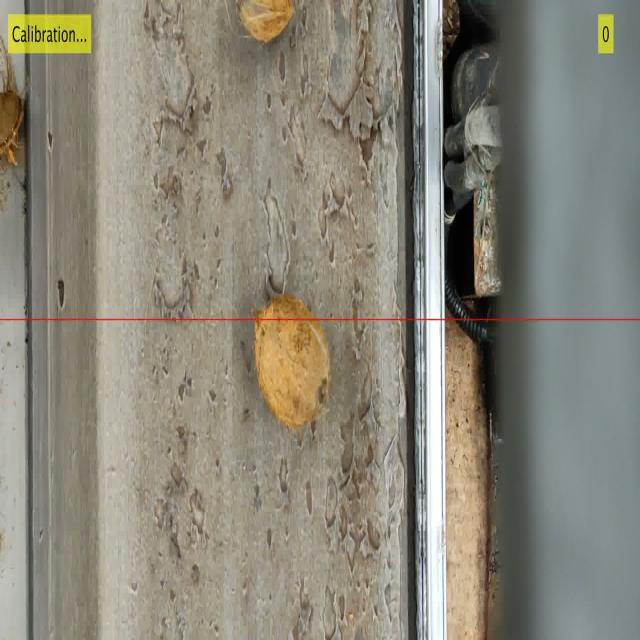Coconut-Conveyor-Belt: (254, 300, 330, 432), (235, 0, 298, 41)
